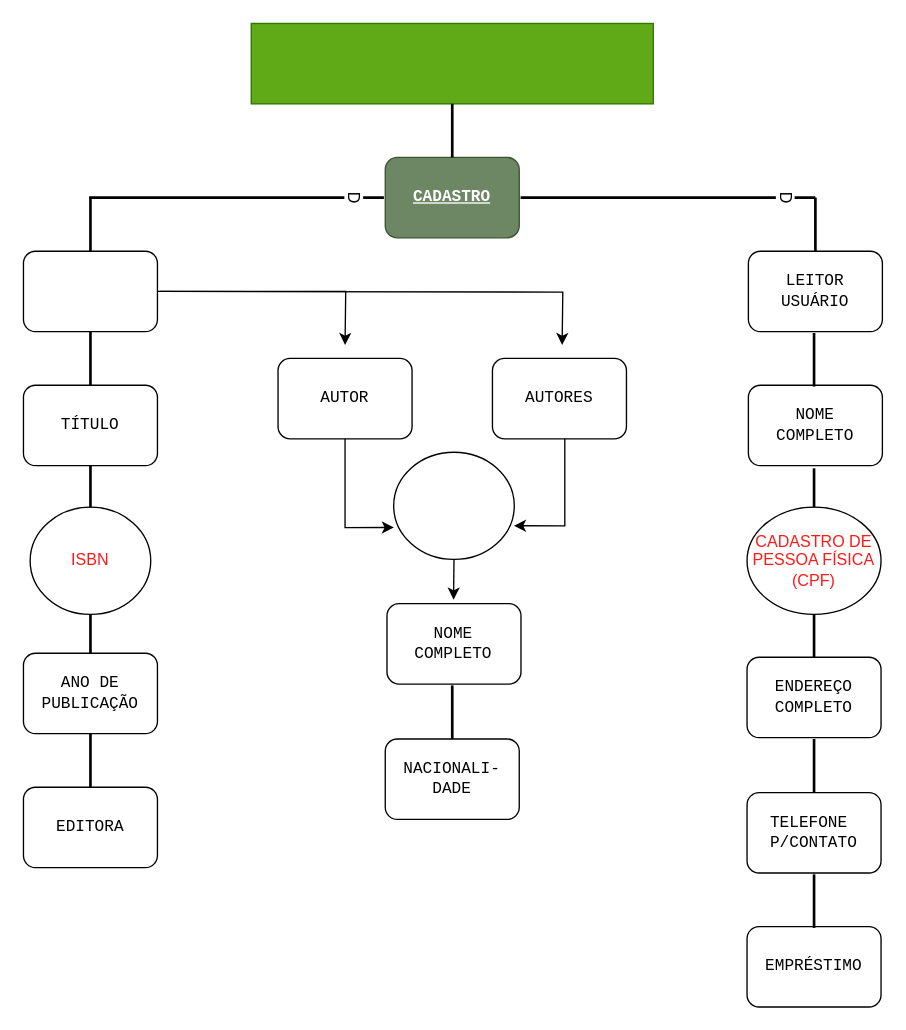
The diagram is 906 pixels wide and 1030 high, and some of its shapes have lost their labels. The shapes that lost their labels are listed below. From the top down, each one's centre as x and y in pixels, then its label:
At (x=451, y=63): "Biblioteca Pública".
At (x=89, y=291): "LIVRO".
At (x=453, y=505): "ID DO(S) AUTOR (ES)".
